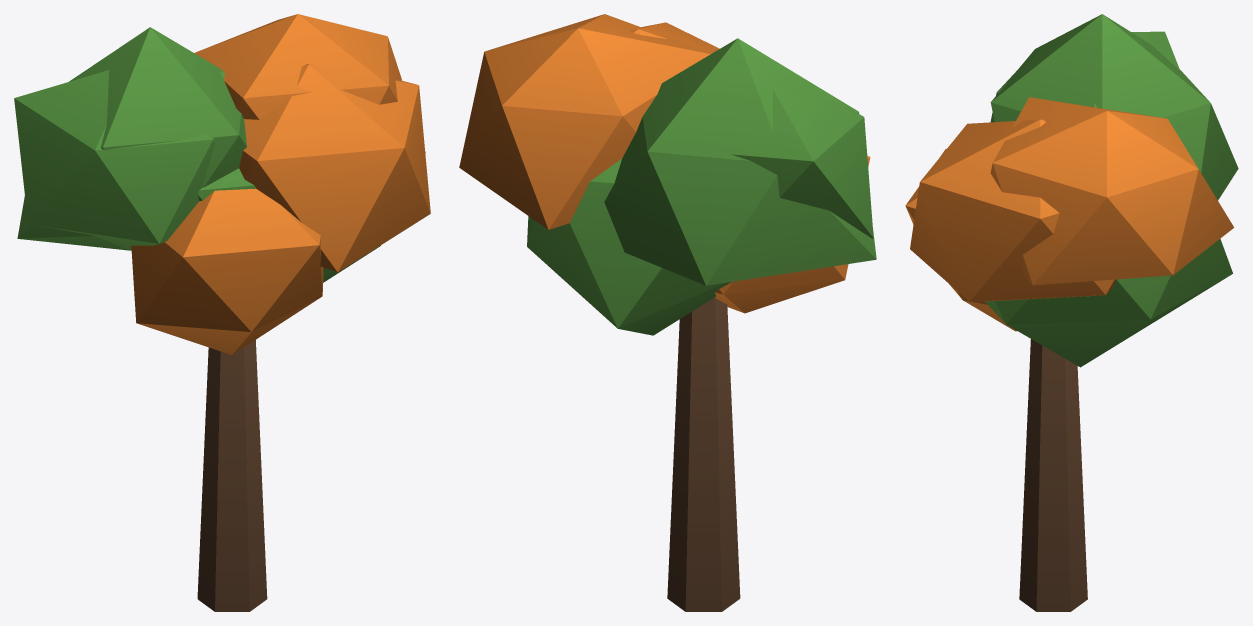
File: tree_C.glb
The picture shows the model from 3 angles, left to right: view 1: azimuth 30°, elevation 25°; view 2: azimuth 150°, elevation 25°; view 3: azimuth 270°, elevation 25°; orthographic projection. The views are drawn at different scales.
Parts seen in each view (by area): view 1: tree_C; view 2: tree_C; view 3: tree_C.
Part boxes in pixels (x1,y1,x2,y2): tree_C: (14, 14, 430, 611); tree_C: (459, 14, 876, 611); tree_C: (905, 14, 1238, 611).
Bounding box in the file's own units: 1.23 × 1.8 × 0.972.
Materials: 1 (1 with a texture image).
